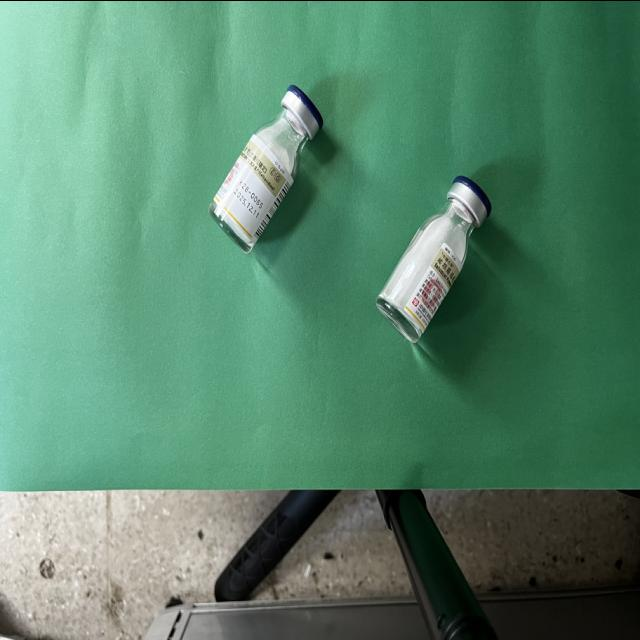Vials: (376, 175, 491, 342), (210, 85, 322, 252)
